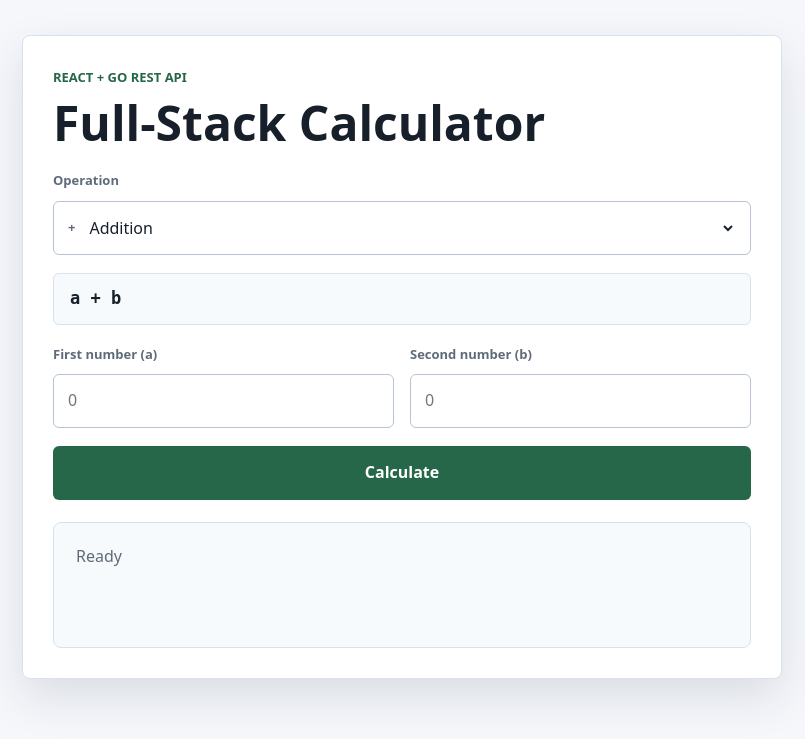
Scenario: App › displays a successful result from the submitted values
Select "Percentage" in the dropdown labelled "Operation +" at (411, 228), box [85,203,736,253]
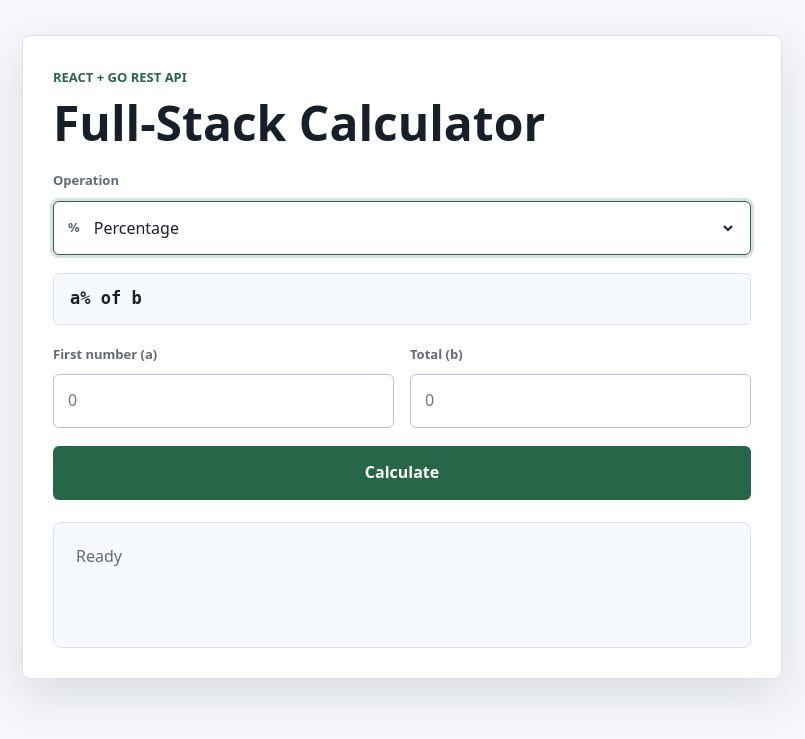
Type "5" into the number field labelled "First number (a)".
click(224, 401); type("5")  # box [53,374,394,428]
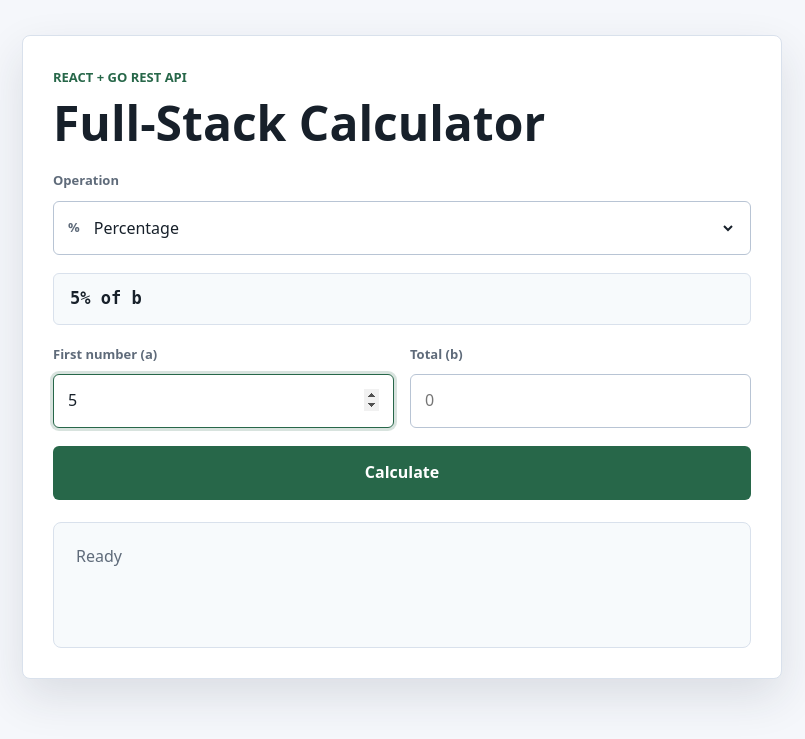
Type "100" into the number field labelled "Total (b)".
click(580, 401); type("100")  # box [410,374,751,428]
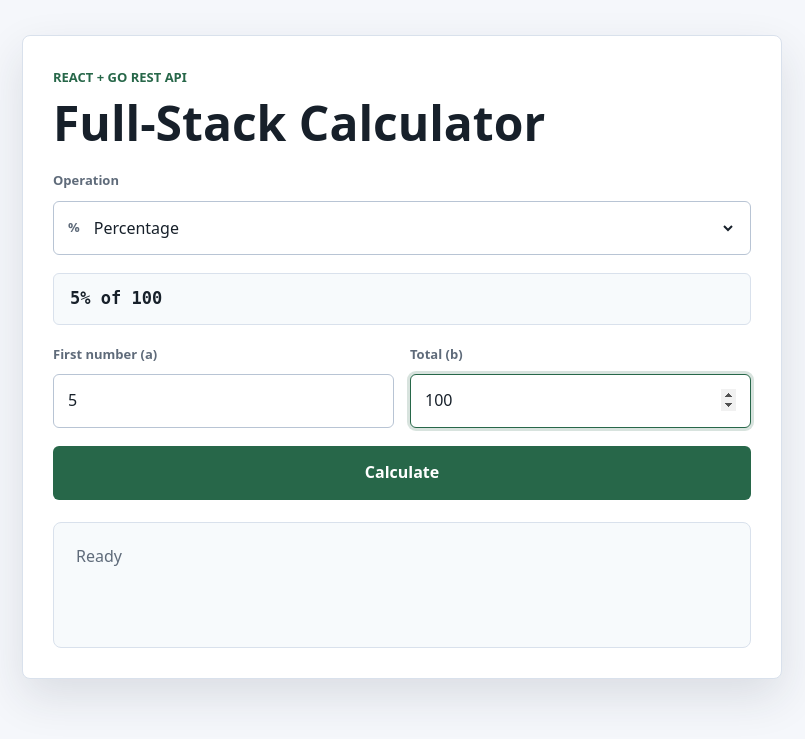
Click the button "Calculate".
click(402, 473)  # box [53,446,751,500]
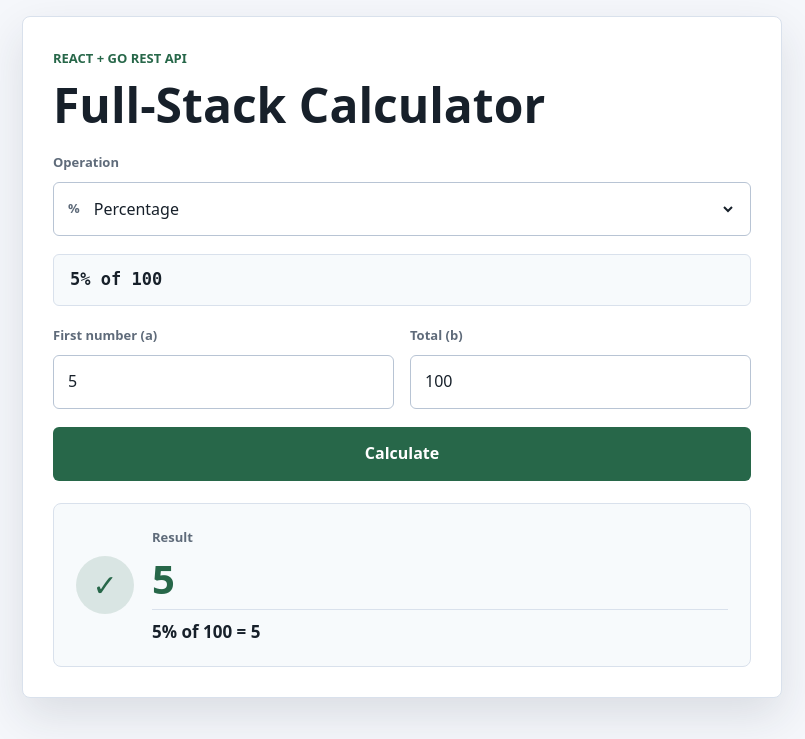
expect the text "5% of 100 = 5" is shown: met, box [152,609,728,644]
Replace the text in the number field labelled "First number (a)" with "10" at (224, 382), box [53,355,394,409]
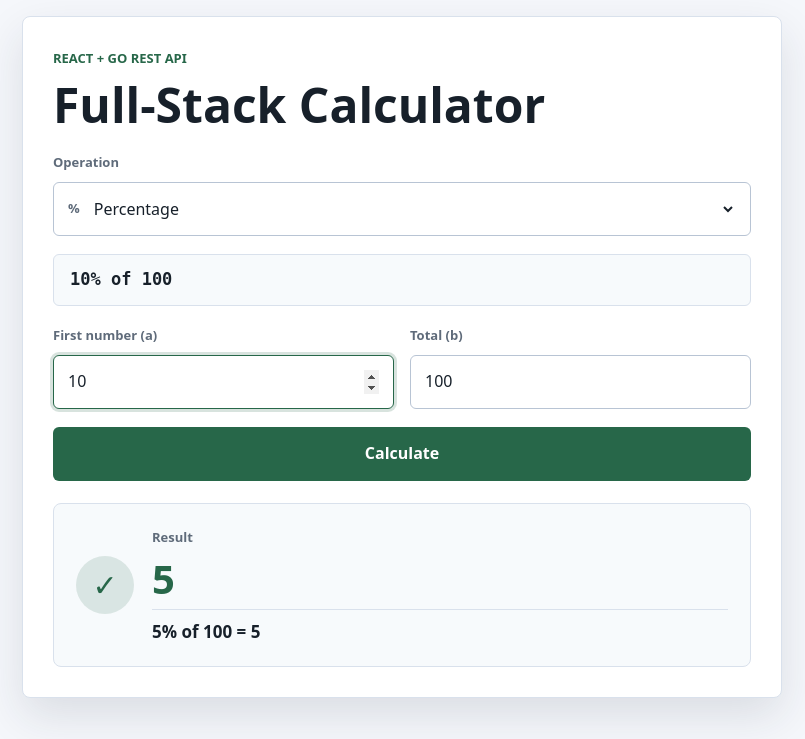
expect the text "5% of 100 = 5" is shown: met, box [152,609,728,644]
expect the text "10% of 100" is shown: met, box [70,268,172,292]
